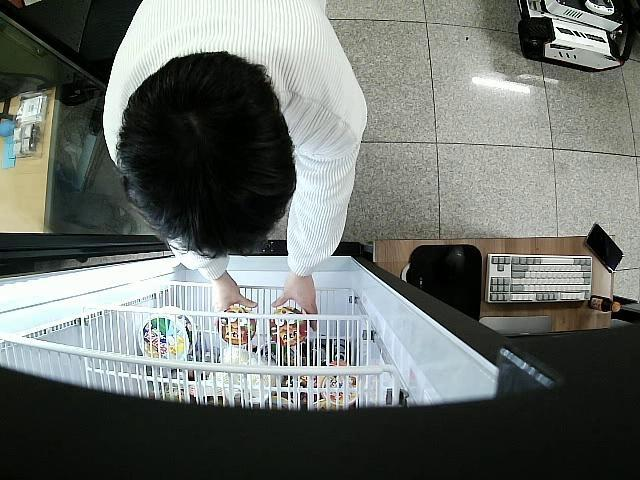06_nuguri_S: (270, 306, 310, 346), (218, 308, 255, 346)
